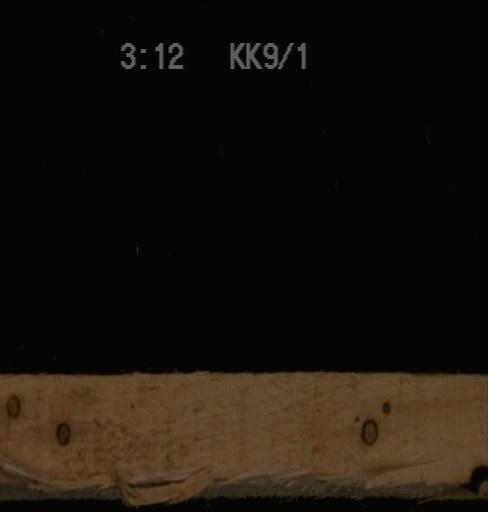dry_knot: (360, 416, 378, 445), (55, 420, 71, 445), (4, 392, 20, 416), (381, 399, 390, 414)
edge_knot: (456, 462, 487, 495)
